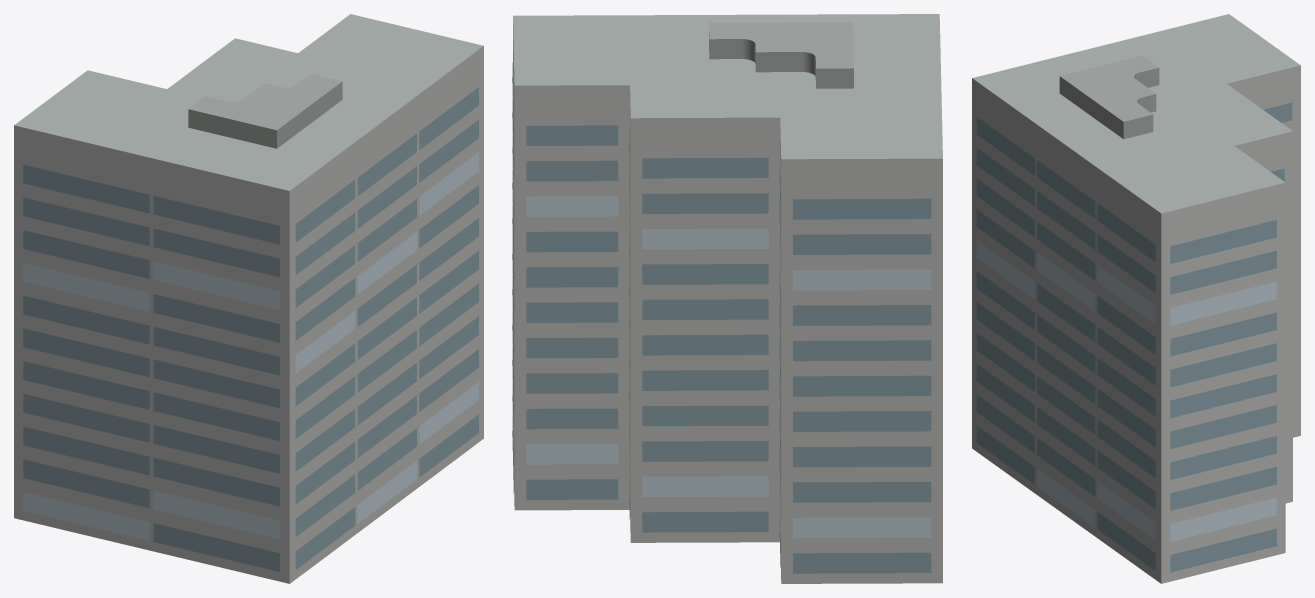
The model's file is fallback-mapo-raemian-prugio-405.glb.
The picture shows the model from 3 angles, left to right: view 1: azimuth 30°, elevation 25°; view 2: azimuth 150°, elevation 25°; view 3: azimuth 270°, elevation 25°; orthographic projection. The views are drawn at different scales.
Parts seen in each view (by area): view 1: fallback-mapo-raemian-prugio-405; view 2: fallback-mapo-raemian-prugio-405; view 3: fallback-mapo-raemian-prugio-405.
Part boxes in pixels (x1=…): fallback-mapo-raemian-prugio-405: x1=14, y1=14, x2=483, y2=583; fallback-mapo-raemian-prugio-405: x1=512, y1=14, x2=942, y2=583; fallback-mapo-raemian-prugio-405: x1=972, y1=14, x2=1300, y2=583.
Size of the model in its own units: 38.62 by 35 by 26.88.
